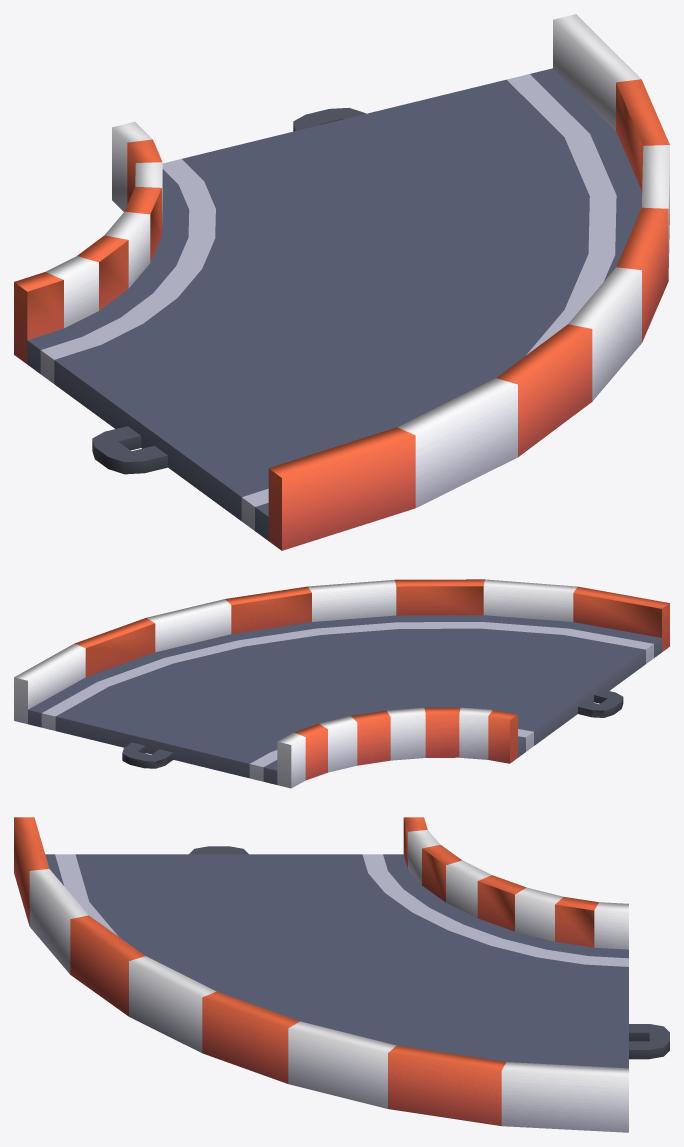
Rendered from track-road-wide-corner-small_lev1.glb.
3 views of the same model, one above another, from view 1: azimuth 30°, elevation 25°; view 2: azimuth 150°, elevation 25°; view 3: azimuth 270°, elevation 25° (orthographic). The views are drawn at different scales.
Visible parts, largest first — view 1: track-road-wide-corner-small_lev1; view 2: track-road-wide-corner-small_lev1; view 3: track-road-wide-corner-small_lev1.
Boxes of the visible parts, <box> form: track-road-wide-corner-small_lev1: <box>14,14,669,550</box>; track-road-wide-corner-small_lev1: <box>14,579,669,788</box>; track-road-wide-corner-small_lev1: <box>14,817,669,1132</box>.
Size of the model in its own units: 3.2 by 0.3 by 3.2.
Materials: 1 (1 with a texture image).
